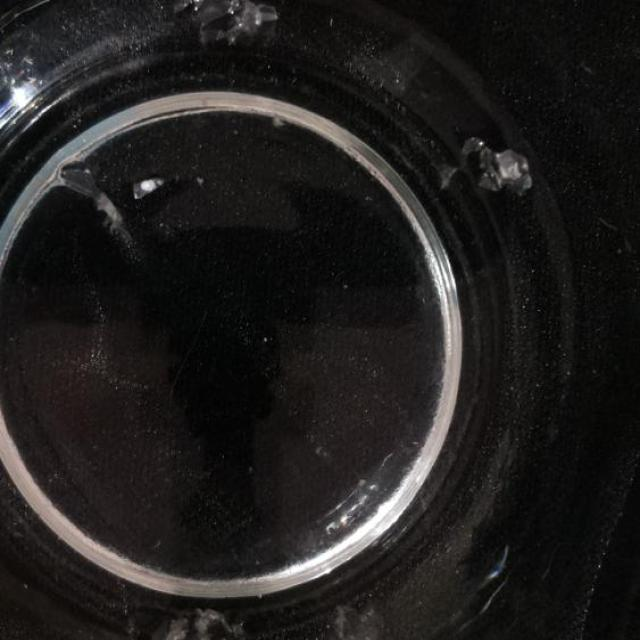fiber: (443, 136, 530, 218), (184, 0, 286, 52), (148, 596, 240, 639), (332, 592, 389, 639), (132, 178, 166, 200)
